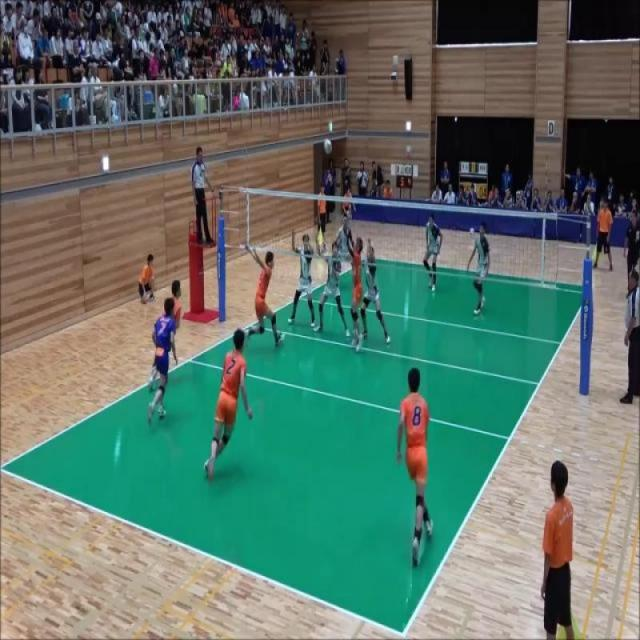volleyball: (322, 137, 333, 156), (470, 226, 475, 237)
